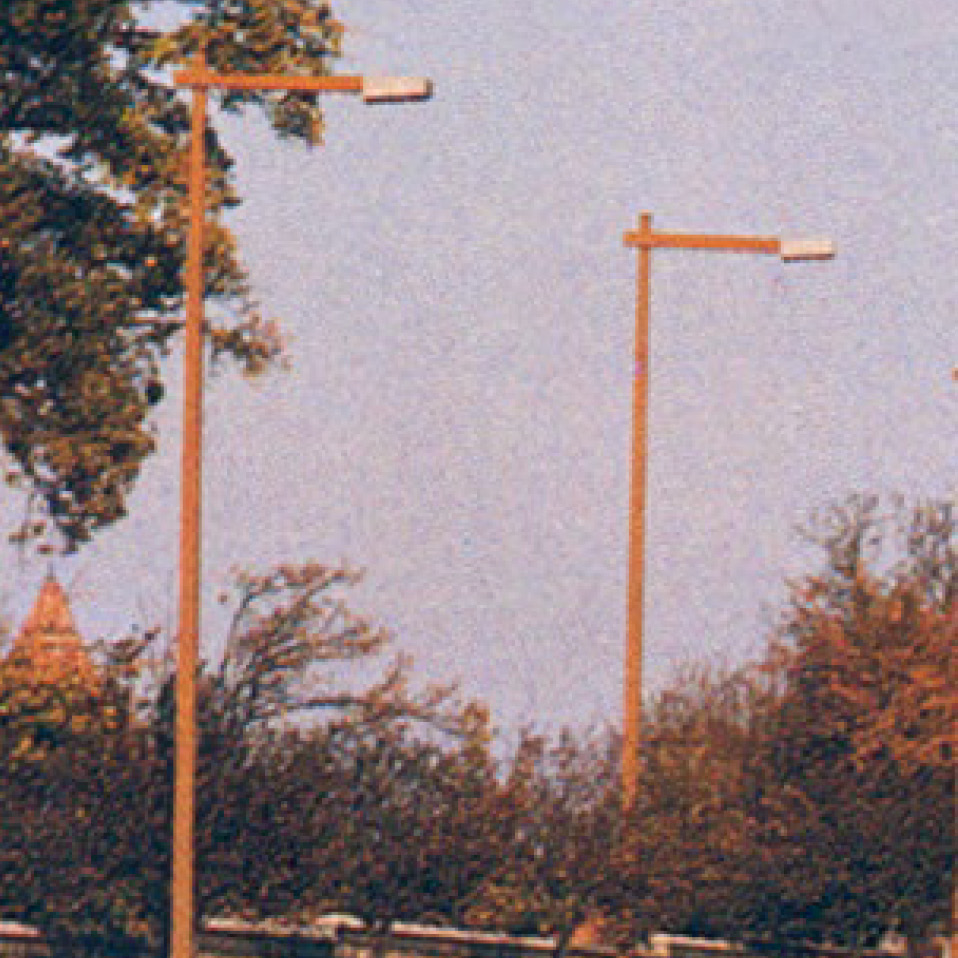light_pole: (164, 38, 224, 958), (614, 200, 658, 856)
